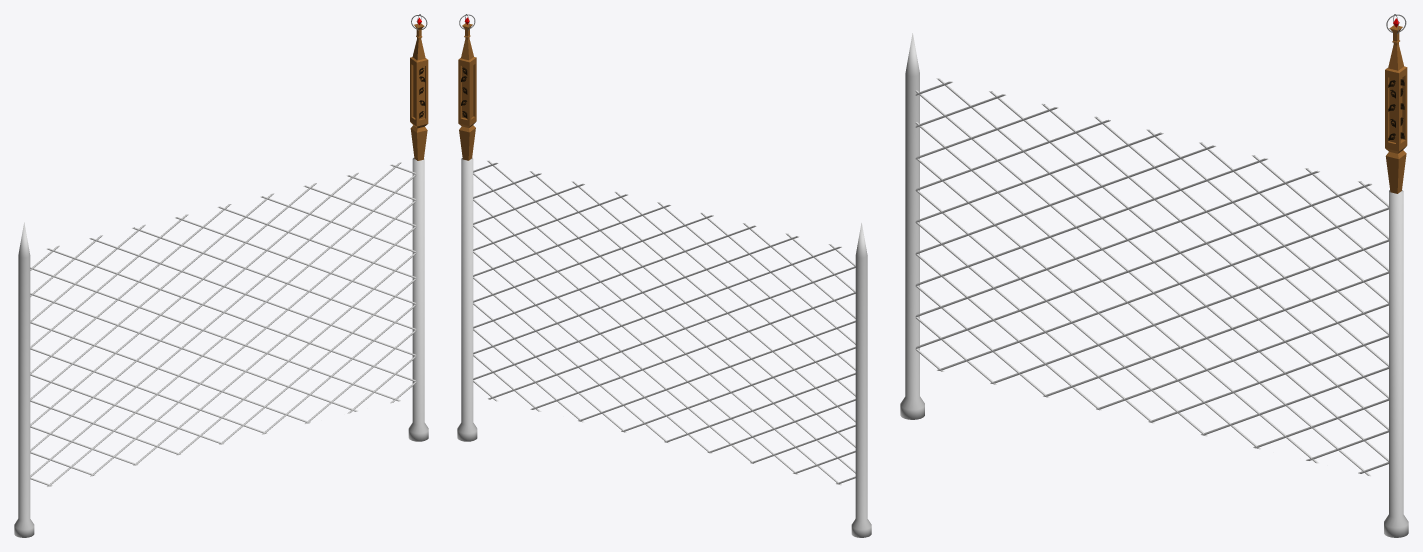
Rendered from wire.FBX.
3 renders of one model, left to right at view 1: azimuth 30°, elevation 25°; view 2: azimuth 150°, elevation 25°; view 3: azimuth 330°, elevation 25°, orthographic. The views are drawn at different scales.
Visible parts, largest first — view 1: Box001, Cylinder002, Cylinder001, Object001; view 2: Box001, Cylinder002, Cylinder001, Object001; view 3: Box001, Cylinder002, Cylinder001, Object001.
Part boxes in pixels (box(x1,y1,x2,y2)): Box001: box(30, 162, 416, 486); Cylinder002: box(14, 222, 34, 537); Cylinder001: box(408, 158, 428, 441); Object001: box(410, 14, 428, 160); Box001: box(473, 160, 855, 485); Cylinder002: box(851, 223, 871, 537); Cylinder001: box(457, 158, 477, 441); Object001: box(458, 14, 476, 160); Box001: box(915, 78, 1388, 476); Cylinder002: box(900, 33, 924, 419); Cylinder001: box(1384, 190, 1408, 537); Object001: box(1385, 14, 1407, 193).
Bounding box in the file's own units: 167 × 164 × 7.06.
